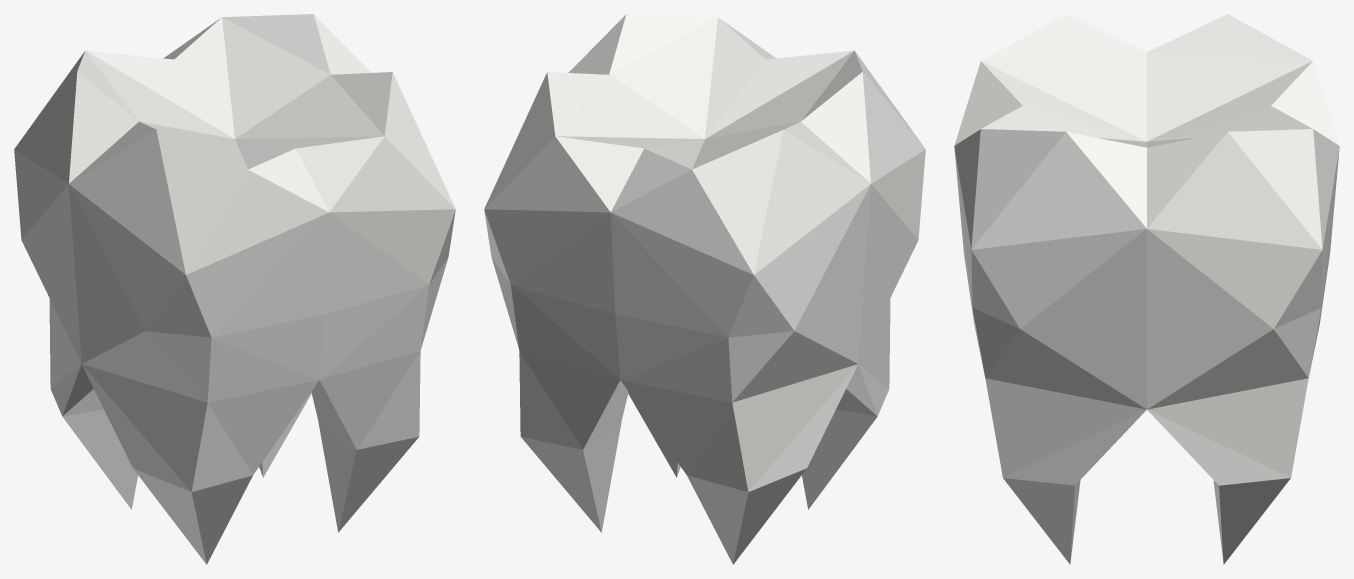
Rendered from tooth.FBX.
3 renders of one model, left to right at view 1: azimuth 30°, elevation 25°; view 2: azimuth 150°, elevation 25°; view 3: azimuth 270°, elevation 25°, orthographic. The views are drawn at different scales.
Parts seen in each view (by area): view 1: tooth; view 2: tooth; view 3: tooth.
Part boxes in pixels (<box>): tooth: <box>14,14,455,564</box>; tooth: <box>484,14,925,564</box>; tooth: <box>954,14,1339,564</box>.
Size of the model in its own units: 0.1632 by 0.2111 by 0.1605.
